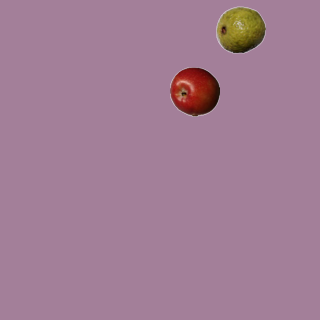Apple Braeburn: (169, 66, 219, 116)
Guava: (215, 4, 265, 54)
